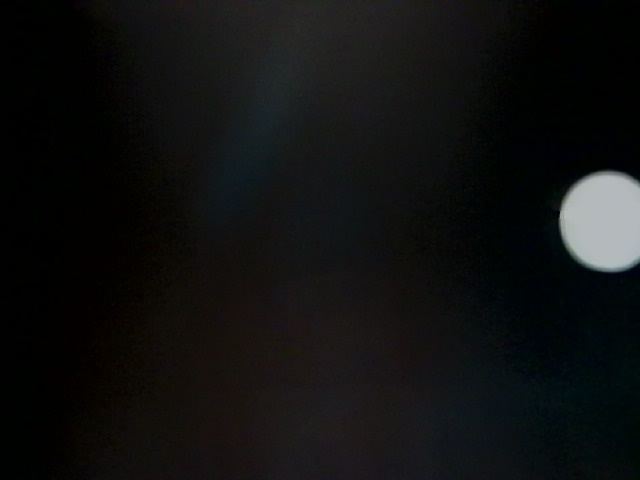KHSLJ: (5, 347, 279, 480)
